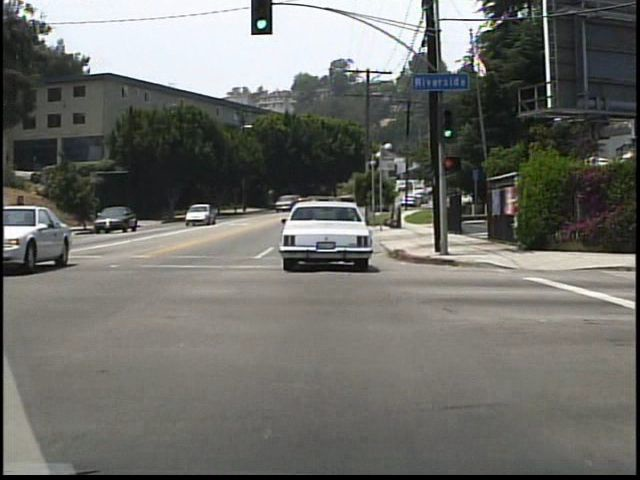person: (103, 205, 114, 231)
